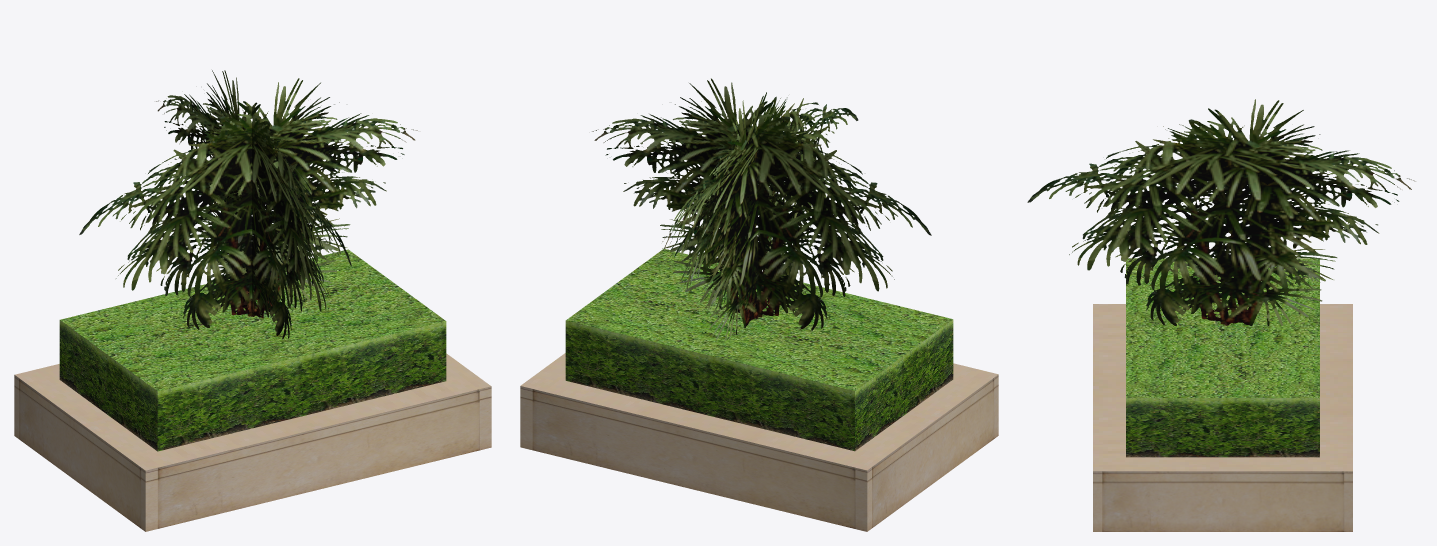
Rendered from tree2.obj.
The picture shows the model from 3 angles, left to right: view 1: azimuth 30°, elevation 25°; view 2: azimuth 150°, elevation 25°; view 3: azimuth 270°, elevation 25°; orthographic projection.
Visible parts, largest first — view 1: _________________03; view 2: _________________03; view 3: _________________03.
Part boxes in pixels (x1=…): _________________03: x1=14, y1=70, x2=491, y2=531; _________________03: x1=520, y1=78, x2=998, y2=531; _________________03: x1=1027, y1=99, x2=1415, y2=531.
Bounding box in the file's own units: 2.41 × 2.36 × 2.41.
5 materials, 5 textured.
